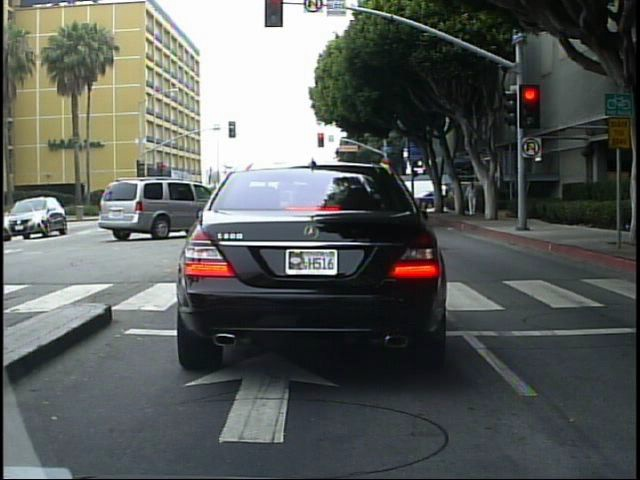person: (631, 166, 639, 285), (633, 166, 639, 280), (465, 180, 480, 219), (437, 179, 453, 214)
